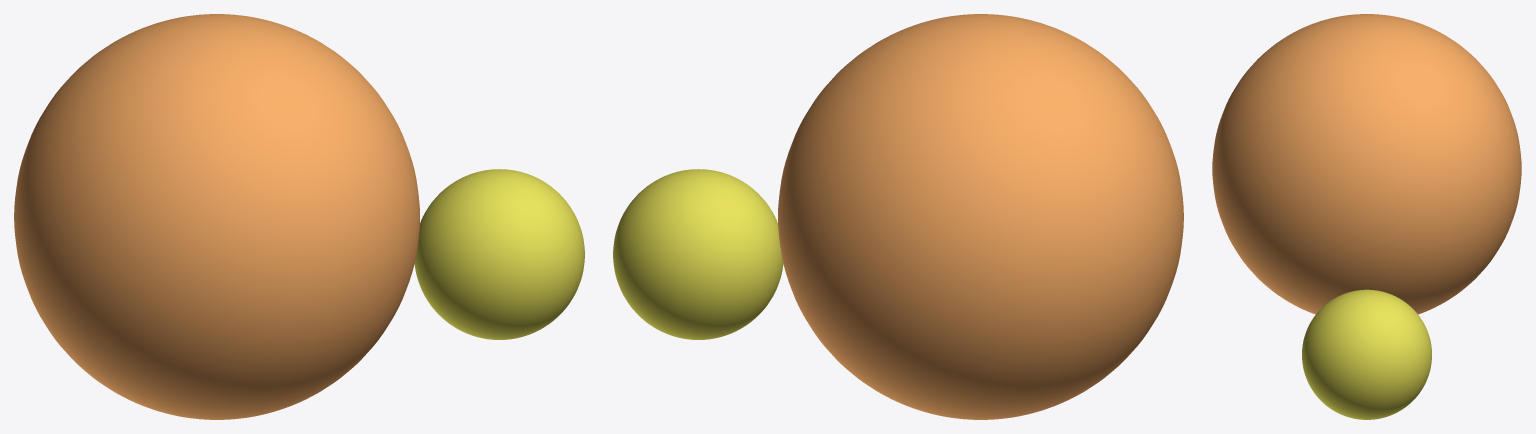
Rendered from rangeRequestTest.glb.
The picture shows the model from 3 angles, left to right: view 1: azimuth 30°, elevation 25°; view 2: azimuth 150°, elevation 25°; view 3: azimuth 270°, elevation 25°; orthographic projection. The views are drawn at different scales.
Parts seen in each view (by area): view 1: Sphere (×2); view 2: Sphere (×2); view 3: Sphere (×2).
Part boxes in pixels (bbox=[...]): Sphere (×2): bbox=[14, 14, 584, 419]; Sphere (×2): bbox=[613, 14, 1183, 419]; Sphere (×2): bbox=[1212, 14, 1521, 419].
Bounding box in the file's own units: 0.3027 × 0.2 × 0.2.
